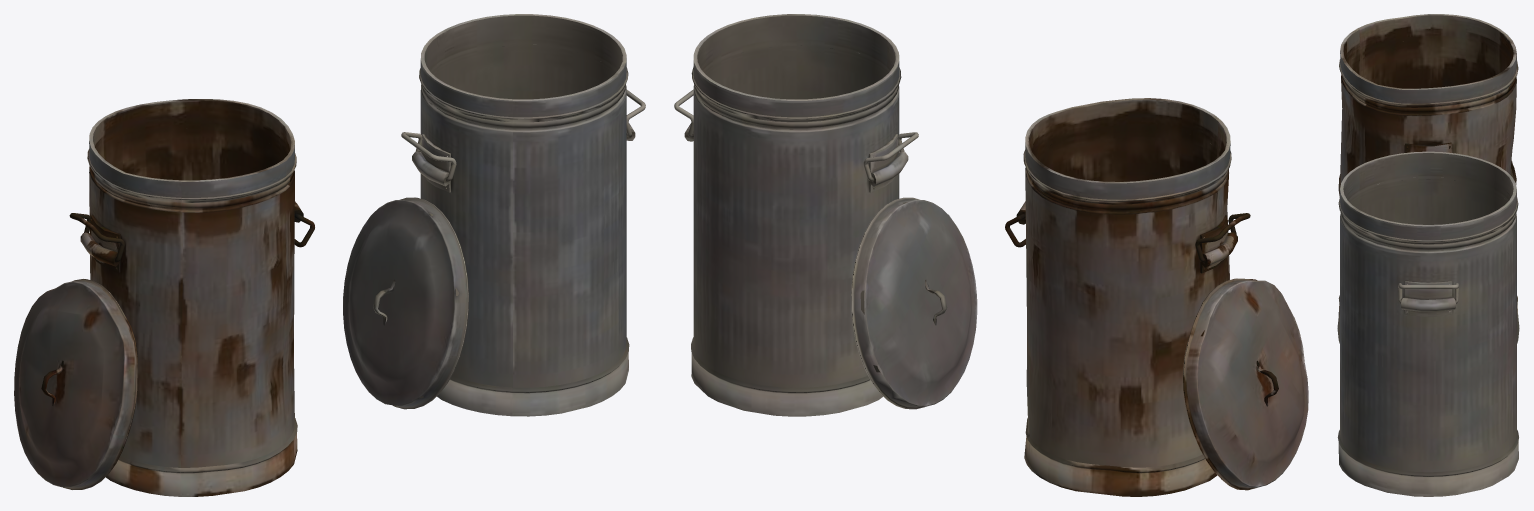
The model's file is trashCan.glb.
3 renders of one model, left to right at view 1: azimuth 30°, elevation 25°; view 2: azimuth 150°, elevation 25°; view 3: azimuth 270°, elevation 25°, orthographic. The views are drawn at different scales.
Parts seen in each view (by area): view 1: metal_trash_can, metal_trash_can_rust, metal_trash_can_lid, metal_trash_can_rust_lid; view 2: metal_trash_can, metal_trash_can_rust, metal_trash_can_lid, metal_trash_can_rust_lid; view 3: metal_trash_can, metal_trash_can_rust, metal_trash_can_handle_right.
Part boxes in pixels (left/top/right/bottom): metal_trash_can: left=412, top=14, right=635, bottom=416; metal_trash_can_rust: left=80, top=99, right=303, bottom=496; metal_trash_can_lid: left=343, top=197, right=468, bottom=409; metal_trash_can_rust_lid: left=14, top=279, right=137, bottom=489; metal_trash_can: left=684, top=14, right=908, bottom=416; metal_trash_can_rust: left=1016, top=98, right=1237, bottom=496; metal_trash_can_lid: left=851, top=197, right=977, bottom=409; metal_trash_can_rust_lid: left=1183, top=278, right=1308, bottom=490; metal_trash_can: left=1337, top=151, right=1518, bottom=496; metal_trash_can_rust: left=1338, top=14, right=1518, bottom=316; metal_trash_can_handle_right: left=1398, top=283, right=1458, bottom=303.
Bounding box in the file's own units: 1.78 × 0.9062 × 0.5543.
Materials: 2 (2 with a texture image).
